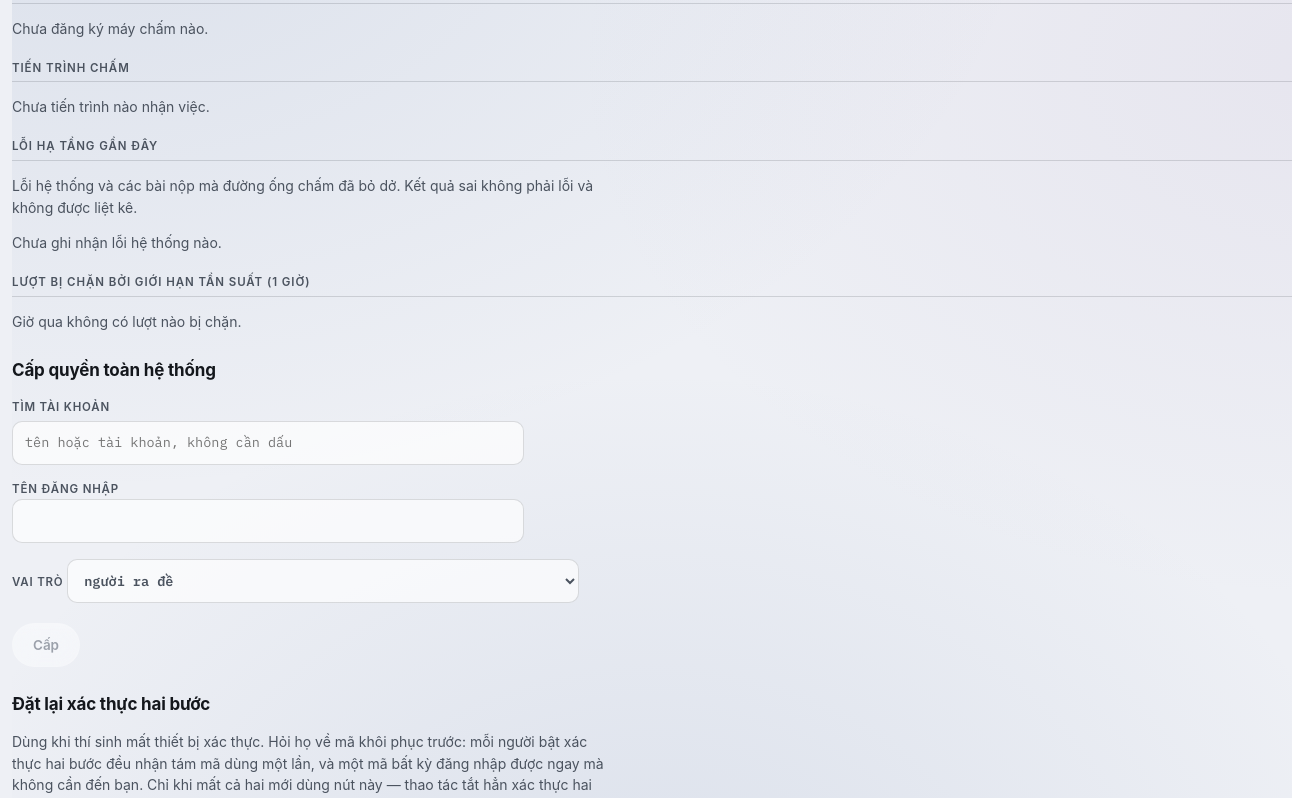
Test: the admin account lookup (D185) › is the first caller `GET /users?q=` has ever had, and it fills the box
This screenshot has width=1292, height=798.
(page scrolled)
In the field labelled "Tìm tài khoản": (268, 443) [12,421,524,465], type "nguyen"
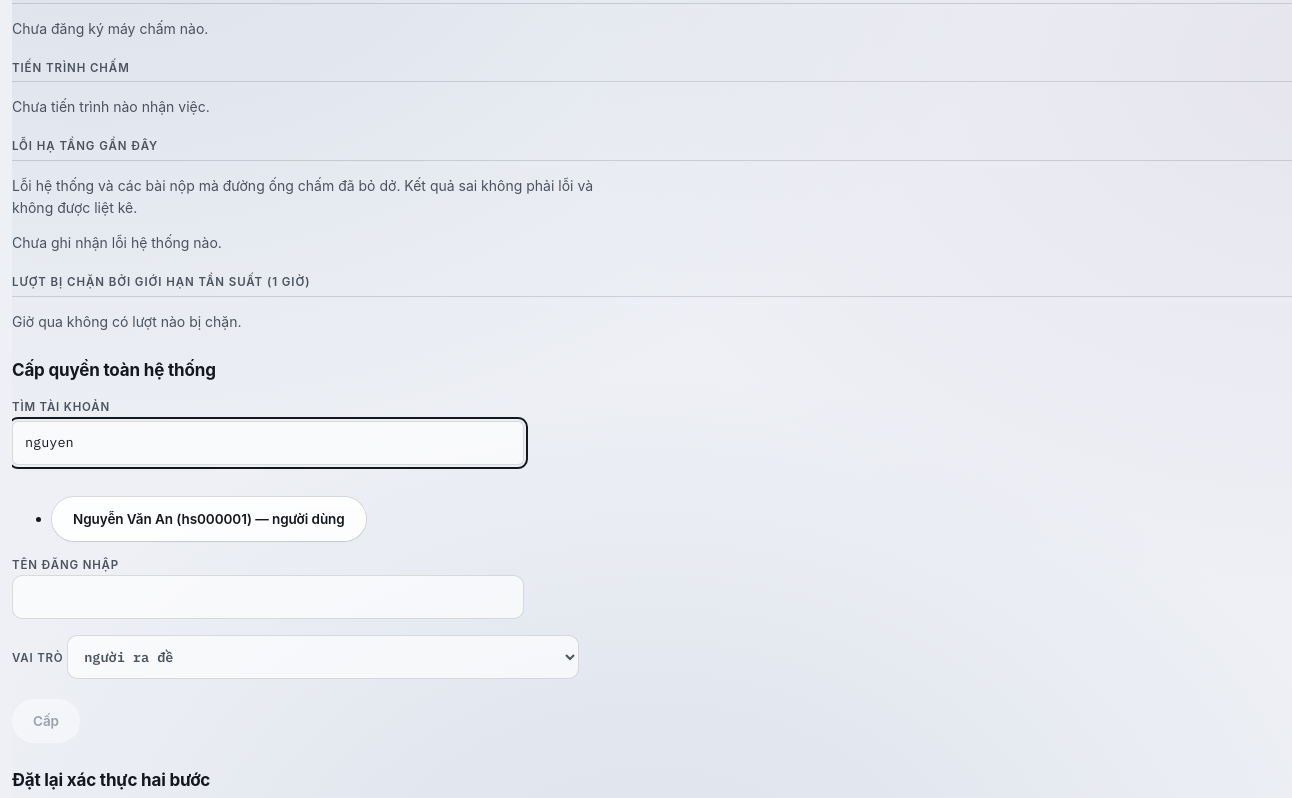
Click the button "Nguyễn Văn An (hs000001) — người dùng": (209, 519) [52,497,366,541]
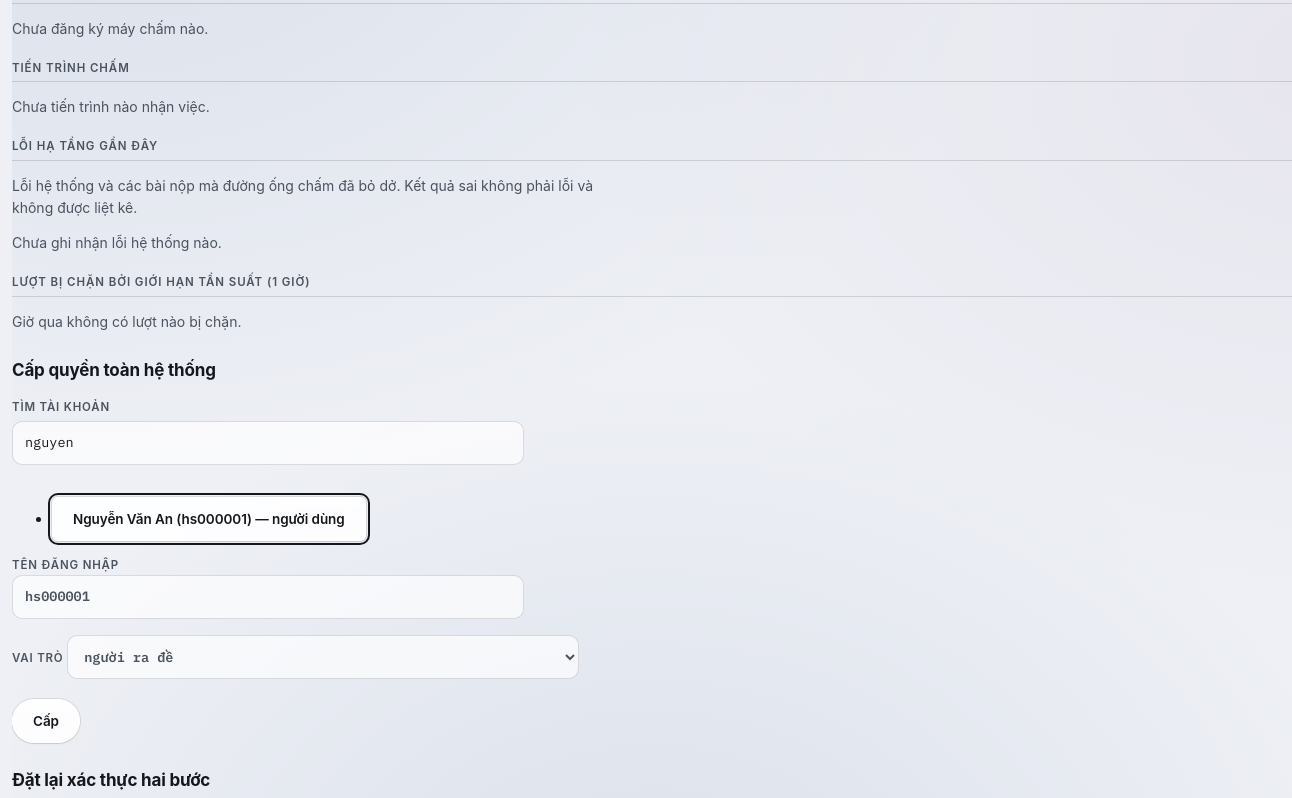
Expected: the field labelled "Tên đăng nhập" holds "hs000001", [12,574,524,618]
